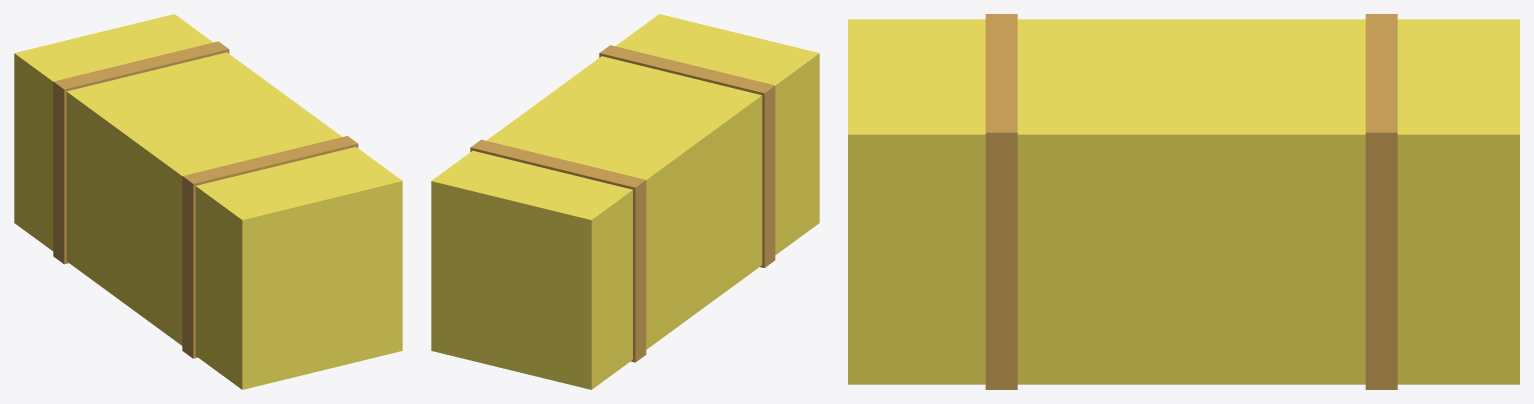
The model's file is a stack of hay.fbx.
3 views of the same model, side by side, from view 1: azimuth 30°, elevation 25°; view 2: azimuth 150°, elevation 25°; view 3: azimuth 270°, elevation 25° (orthographic). The views are drawn at different scales.
Visible parts, largest first — view 1: Cube_1; view 2: Cube_1; view 3: Cube_1.
Part boxes in pixels (left/top/right/bottom): Cube_1: left=14, top=14, right=402, bottom=389; Cube_1: left=431, top=14, right=819, bottom=389; Cube_1: left=848, top=14, right=1519, bottom=389.
Size of the model in its own units: 83.52 by 84.55 by 200.
